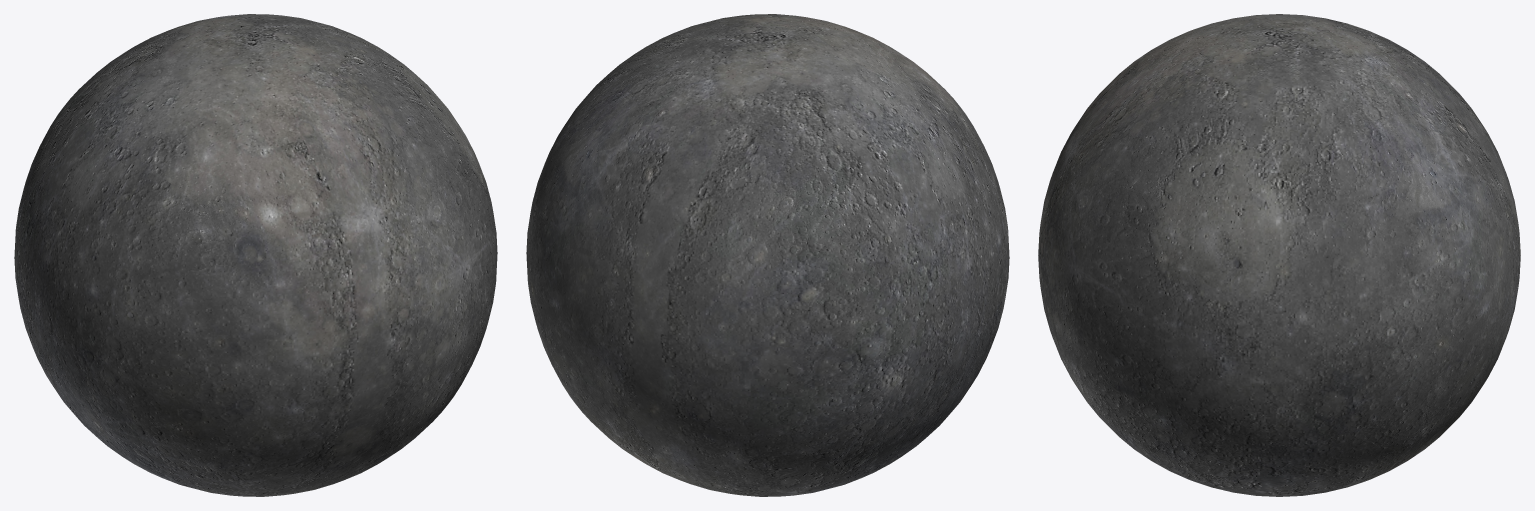
Rendered from MercuryModel.obj.
The picture shows the model from 3 angles, left to right: view 1: azimuth 30°, elevation 25°; view 2: azimuth 150°, elevation 25°; view 3: azimuth 270°, elevation 25°; orthographic projection.
Visible parts, largest first — view 1: obj1; view 2: obj1; view 3: obj1.
Boxes of the visible parts, box(x1,y1,x2,y2) form: obj1: box(14, 14, 497, 496); obj1: box(526, 14, 1009, 496); obj1: box(1038, 14, 1520, 496).
Size of the model in its own units: 1000 by 1000 by 1000.
